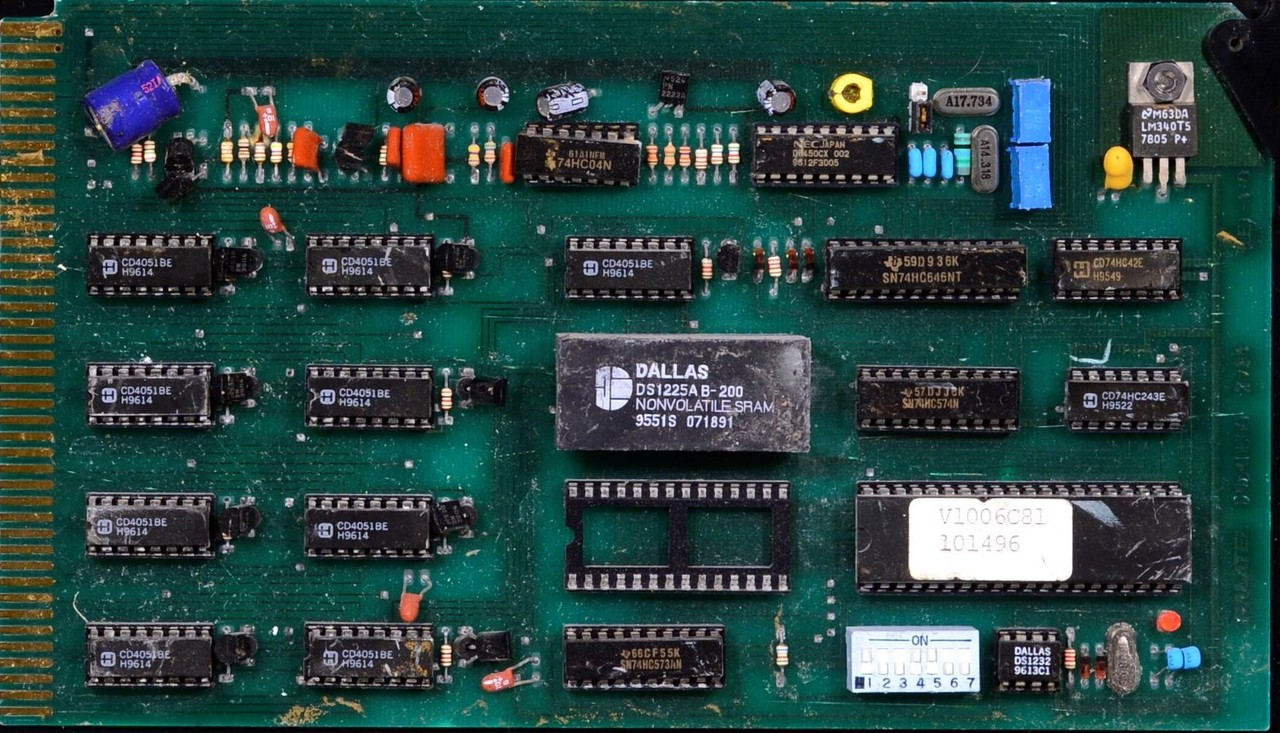Capacitor: (79, 63, 182, 140), (403, 122, 447, 189), (535, 84, 599, 117), (759, 75, 792, 124), (259, 201, 297, 243), (386, 78, 423, 116), (293, 124, 322, 172), (477, 74, 511, 114), (1105, 144, 1145, 172), (246, 82, 278, 116), (387, 125, 404, 175), (904, 142, 924, 184), (922, 140, 939, 186), (500, 132, 514, 183), (944, 142, 959, 182)
IC: (559, 336, 812, 457), (828, 242, 1040, 311), (577, 611, 724, 697), (858, 362, 1014, 442), (300, 359, 448, 439), (551, 229, 690, 305), (90, 225, 217, 304), (1045, 230, 1189, 297), (300, 241, 442, 307), (306, 490, 438, 560), (82, 623, 216, 688), (758, 131, 897, 190), (311, 624, 438, 688), (84, 495, 206, 559), (523, 128, 637, 196), (85, 365, 213, 425), (1070, 359, 1184, 425), (334, 183, 336, 200)
Resistor: (769, 637, 799, 684), (436, 632, 457, 681), (130, 139, 149, 177), (766, 246, 783, 287), (465, 139, 482, 176), (1062, 640, 1079, 677), (271, 131, 283, 176), (645, 143, 662, 174), (483, 135, 497, 171), (218, 137, 236, 164), (726, 136, 740, 170), (710, 139, 725, 168), (692, 146, 710, 169), (235, 134, 249, 163), (379, 140, 393, 169), (285, 130, 296, 164), (145, 135, 156, 169), (681, 142, 692, 176), (255, 139, 268, 167), (662, 144, 676, 168), (443, 383, 454, 413), (698, 255, 712, 274)
